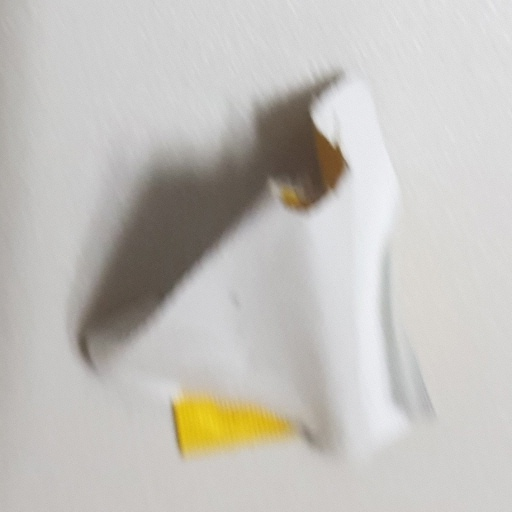Paper_3: (55, 72, 460, 467)
